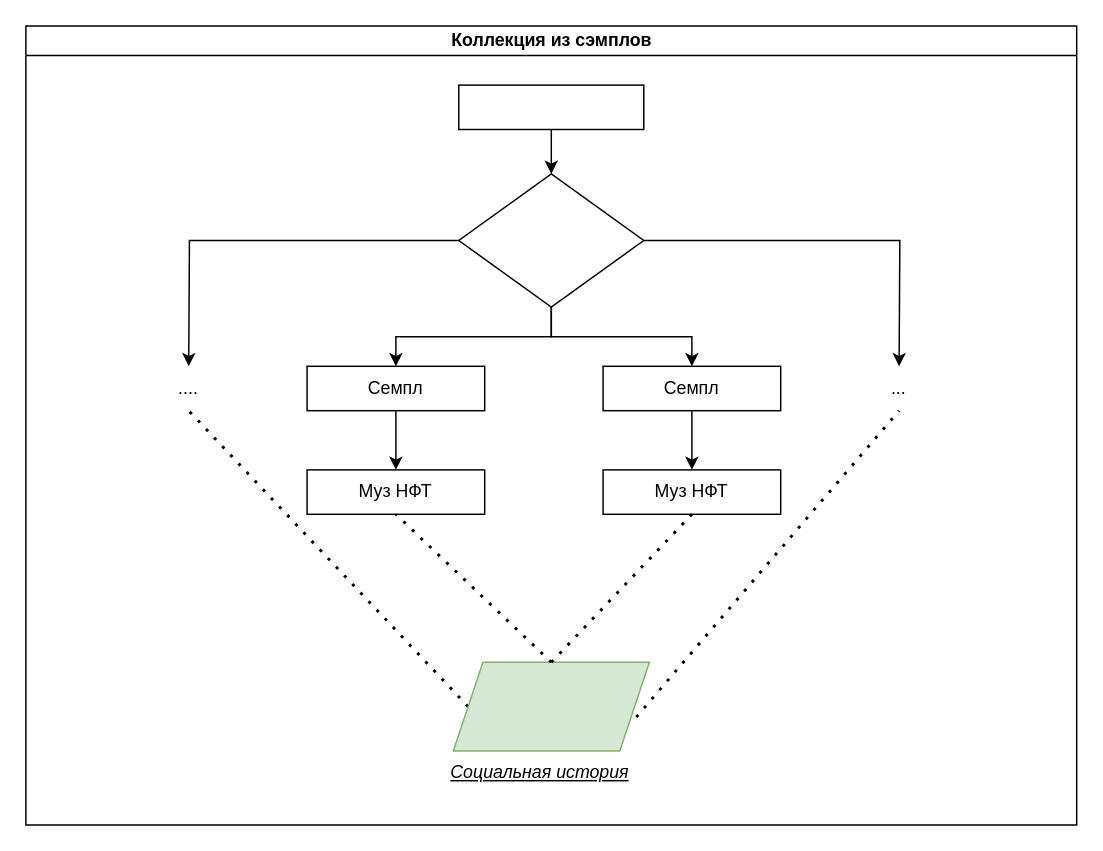
Image size: 1103x851. Some labels were removed from this diagram. Here are the shapes that lost their labels. From the top down, the centre of each, then its label:
(550,107): Трек
(550,239): Алгоритм семплирования
(550,706): Какой то общий продукт
